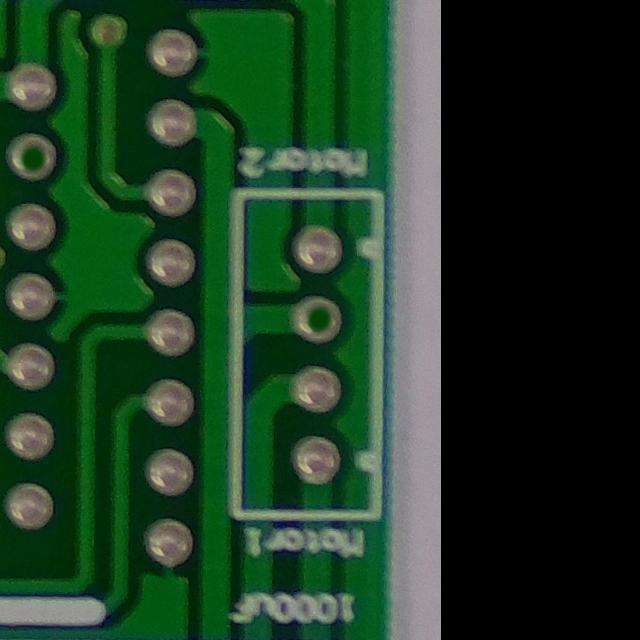missing_hole: (3, 124, 67, 189), (289, 285, 351, 349)
